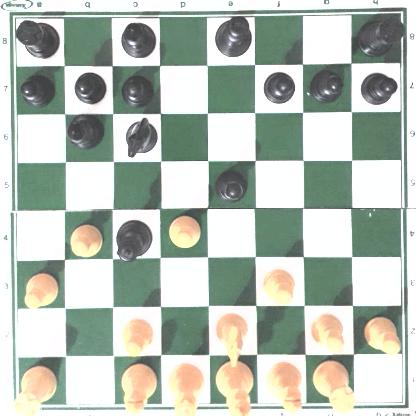black-bishop: (119, 19, 157, 56), (65, 115, 104, 149)
black-king: (214, 15, 252, 58)
black-knight: (123, 116, 156, 155)
black-pawn: (360, 69, 396, 105), (213, 166, 249, 201), (262, 68, 295, 103), (73, 69, 105, 104), (20, 72, 54, 104), (311, 68, 343, 101), (122, 70, 152, 105)
black-queen: (115, 218, 154, 263)
black-rook: (12, 16, 59, 58), (358, 11, 401, 55)
white-bishop: (265, 361, 304, 414), (121, 360, 155, 413)
white-king: (215, 358, 253, 416)
white-knight: (213, 310, 248, 365)
white-pawn: (309, 310, 347, 350), (363, 314, 400, 351), (120, 315, 154, 355), (67, 221, 104, 257), (21, 271, 58, 307), (261, 265, 295, 303), (167, 214, 201, 248)
white-queen: (166, 361, 205, 416)
white-rook: (311, 357, 357, 414), (15, 361, 55, 416)
